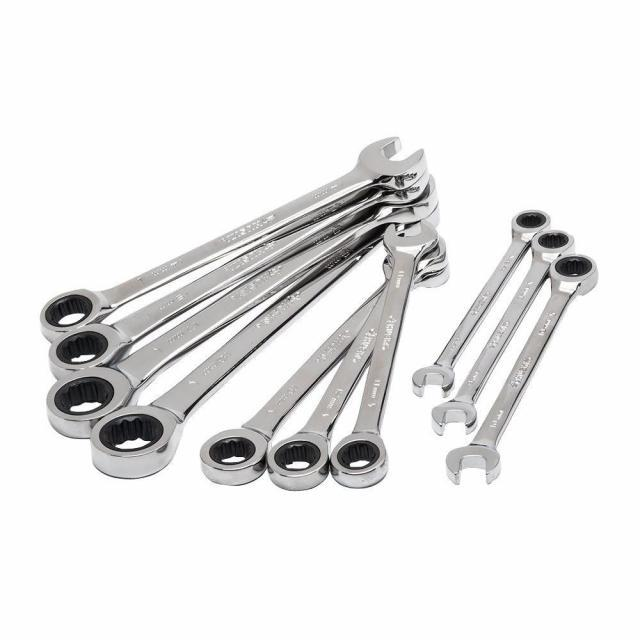wrench: (88, 182, 429, 485), (44, 180, 431, 442), (37, 136, 429, 347), (47, 162, 420, 380), (192, 236, 450, 489), (268, 232, 447, 498), (444, 252, 602, 488), (428, 227, 576, 438), (326, 220, 434, 494), (413, 206, 552, 402)
